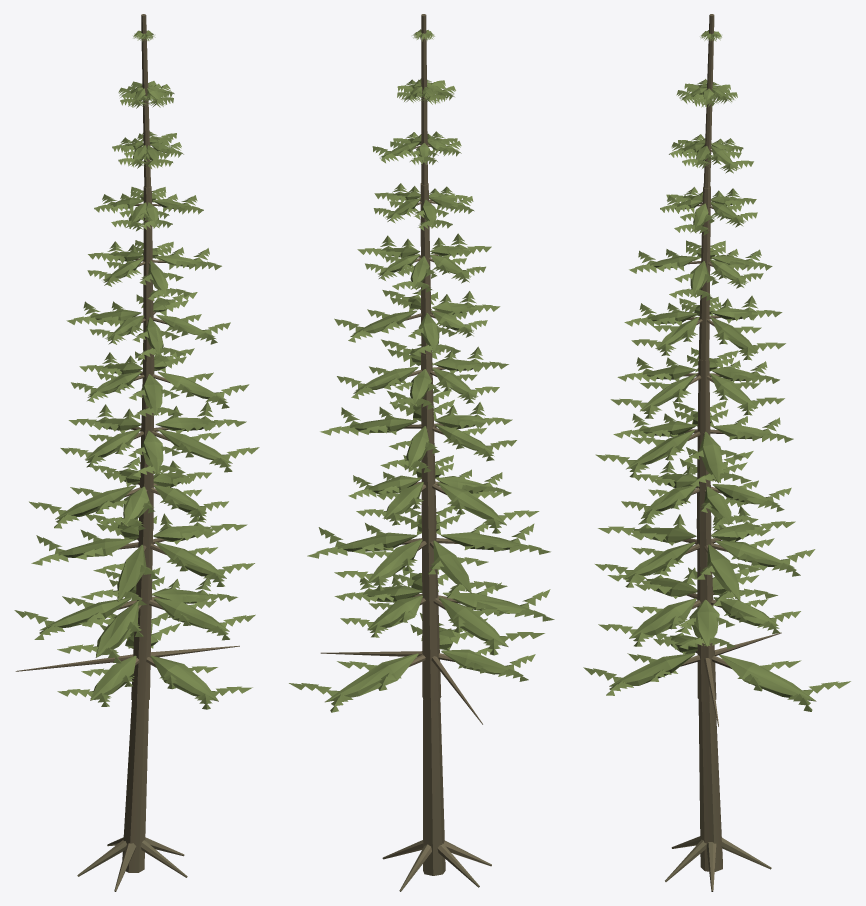
File: taiga-larch.glb
3 views of the same model, side by side, from view 1: azimuth 30°, elevation 25°; view 2: azimuth 150°, elevation 25°; view 3: azimuth 270°, elevation 25° (orthographic).
Parts seen in each view (by area): view 1: Лиственница сибирская · Larix sibirica; view 2: Лиственница сибирская · Larix sibirica; view 3: Лиственница сибирская · Larix sibirica.
Boxes of the visible parts, left/top/right/bottom form: Лиственница сибирская · Larix sibirica: left=14, top=14, right=259, bottom=891; Лиственница сибирская · Larix sibirica: left=289, top=14, right=554, bottom=891; Лиственница сибирская · Larix sibirica: left=583, top=14, right=850, bottom=891.
Bounding box in the file's own units: 7.58 × 28.02 × 7.95.
